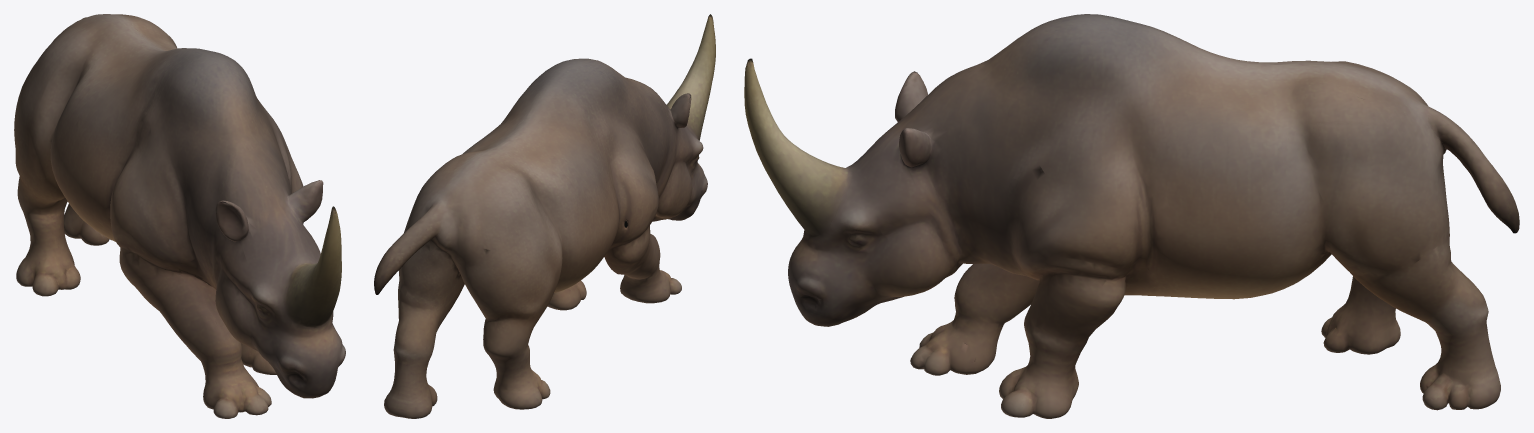
3 renders of one model, left to right at view 1: azimuth 30°, elevation 25°; view 2: azimuth 150°, elevation 25°; view 3: azimuth 270°, elevation 25°, orthographic. The views are drawn at different scales.
Visible parts, largest first — view 1: world; view 2: world; view 3: world.
Part boxes in pixels (bbox=[...]): world: bbox=[14, 14, 345, 418]; world: bbox=[374, 14, 715, 418]; world: bbox=[744, 14, 1519, 418].
Bounding box in the file's own units: 1.47 × 2.33 × 4.5.
1 material, 1 textured.
